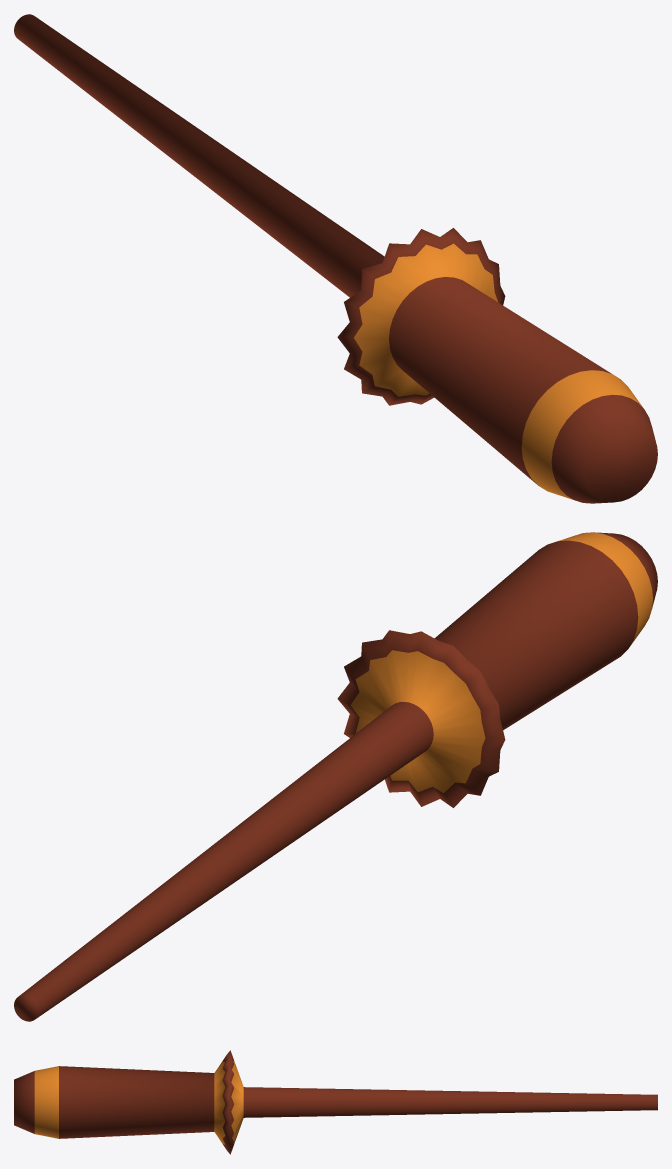
Rendered from DistinguishedWand.fbx.
The picture shows the model from 3 angles, top to bottom: view 1: azimuth 30°, elevation 25°; view 2: azimuth 150°, elevation 25°; view 3: azimuth 270°, elevation 25°; orthographic projection. The views are drawn at different scales.
Parts seen in each view (by area): view 1: DistinguishedWand; view 2: DistinguishedWand; view 3: DistinguishedWand.
Boxes of the visible parts, x1,y1,x2,y2 form: DistinguishedWand: (14, 14, 657, 503); DistinguishedWand: (14, 532, 657, 1021); DistinguishedWand: (14, 1050, 657, 1154).
Size of the model in its own units: 36.15 by 5.89 by 5.89.
